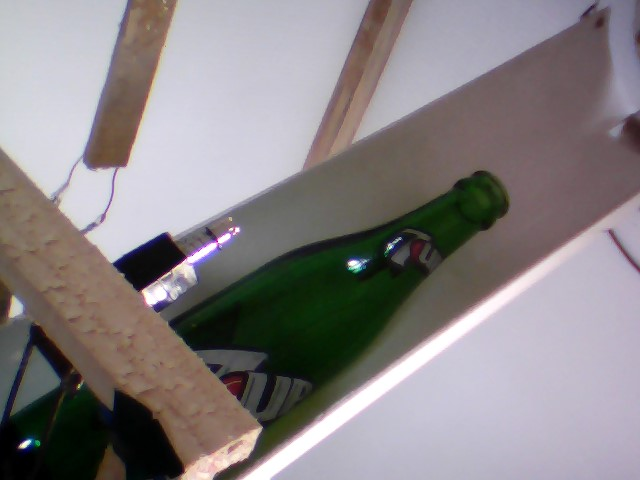vidrio: (179, 163, 513, 433)
